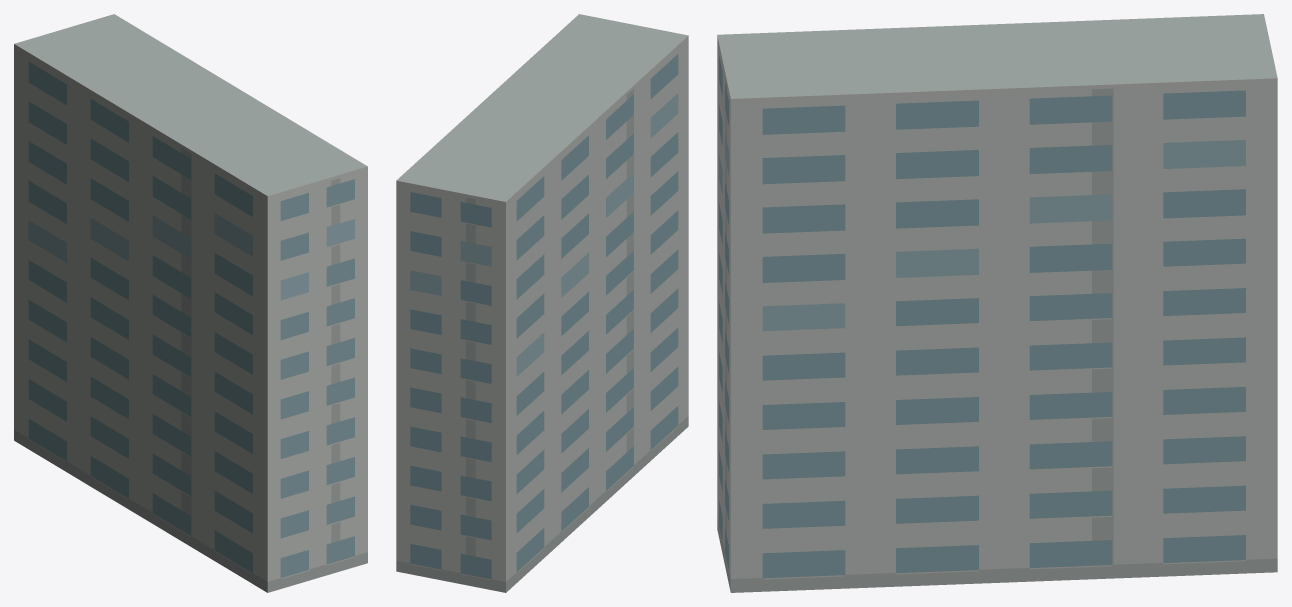
File: residential-272500c7-3323-4816-afbc-dd8549341bce.glb
The picture shows the model from 3 angles, left to right: view 1: azimuth 30°, elevation 25°; view 2: azimuth 150°, elevation 25°; view 3: azimuth 270°, elevation 25°; orthographic projection. The views are drawn at different scales.
Visible parts, largest first — view 1: residential-272500c7-3323-4816-afbc-dd8549341bce.tmp; view 2: residential-272500c7-3323-4816-afbc-dd8549341bce.tmp; view 3: residential-272500c7-3323-4816-afbc-dd8549341bce.tmp.
Part boxes in pixels (x1,y1,x2,y2): residential-272500c7-3323-4816-afbc-dd8549341bce.tmp: (14,14,367,592); residential-272500c7-3323-4816-afbc-dd8549341bce.tmp: (396,14,688,592); residential-272500c7-3323-4816-afbc-dd8549341bce.tmp: (717,14,1277,592).
Size of the model in its own units: 11.07 by 30 by 30.86.
